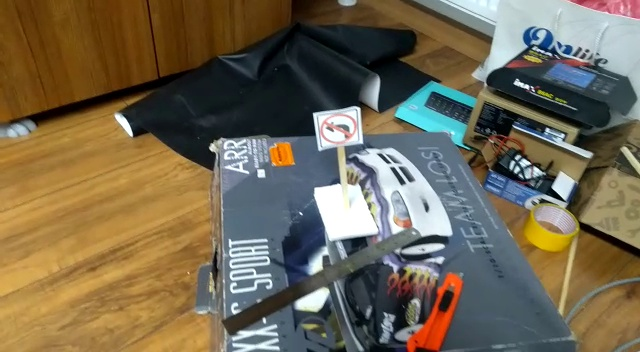sola_donulmez: (319, 110, 358, 146)
